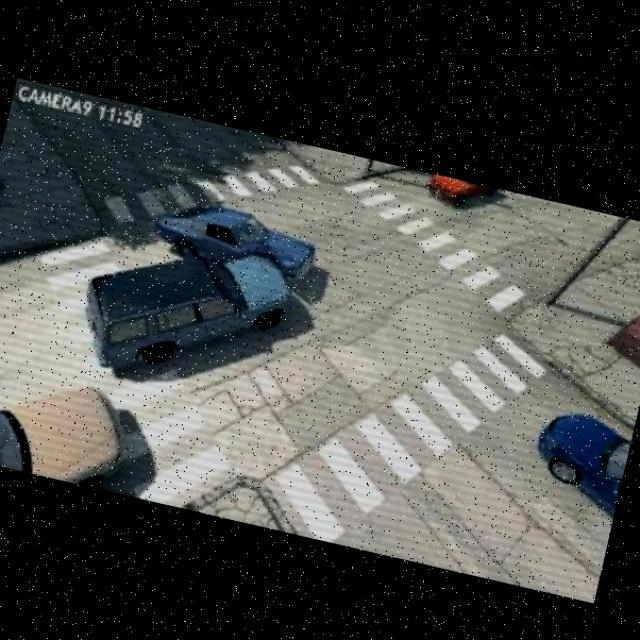accident: (58, 170, 330, 409)
